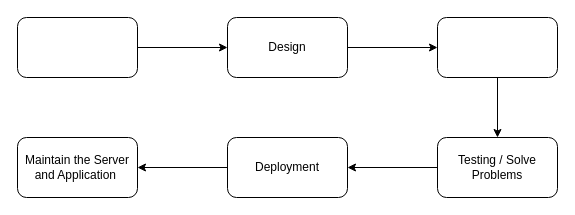
The diagram is 575 pixels wide and 215 high, and some of its shapes have lost their labels. Here are the shapes that lost their labels. From the top down, the centre of each, then its label:
pixel 77 47: Requirement Analysis
pixel 497 47: Development Phase
